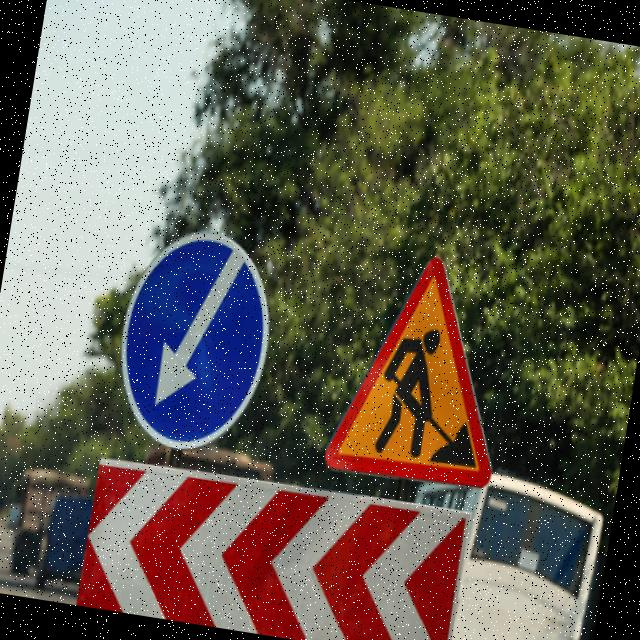road_work: (322, 242, 532, 503)
